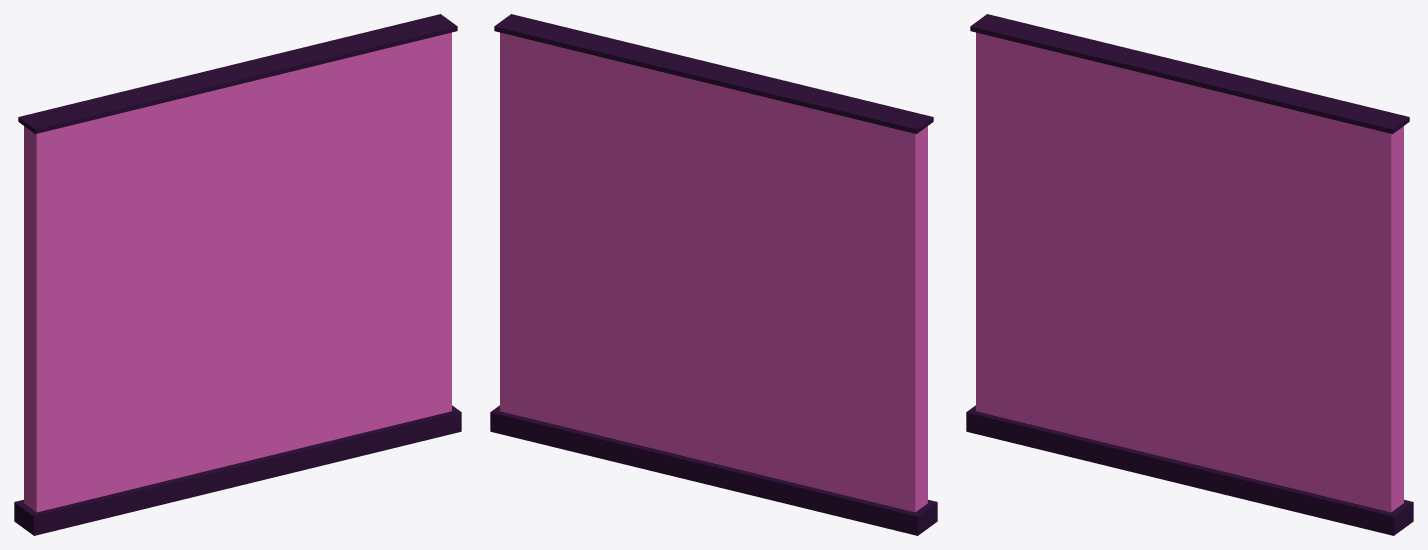
File: semiPared_low.fbx
3 views of the same model, side by side, from view 1: azimuth 30°, elevation 25°; view 2: azimuth 150°, elevation 25°; view 3: azimuth 330°, elevation 25° (orthographic).
Parts seen in each view (by area): view 1: m_paredCuadros_low; view 2: m_paredCuadros_low; view 3: m_paredCuadros_low.
Boxes of the visible parts, x1,y1,x2,y2 form: m_paredCuadros_low: (14,14,461,535); m_paredCuadros_low: (490,14,937,535); m_paredCuadros_low: (966,14,1413,535).
Bounding box in the file's own units: 778 × 704 × 62.81.
